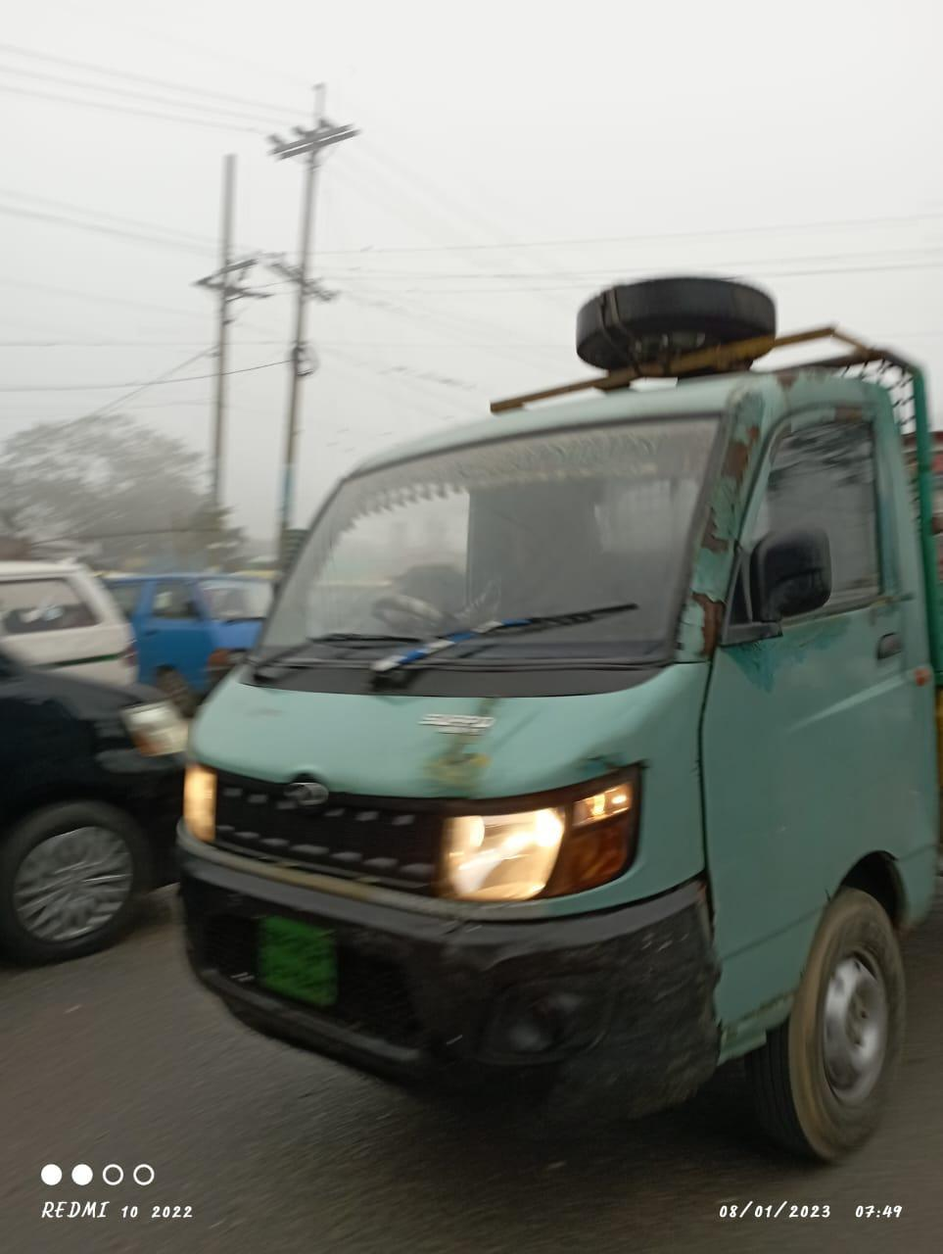Car: (5, 616, 178, 936)
Truck: (178, 260, 943, 1167)
